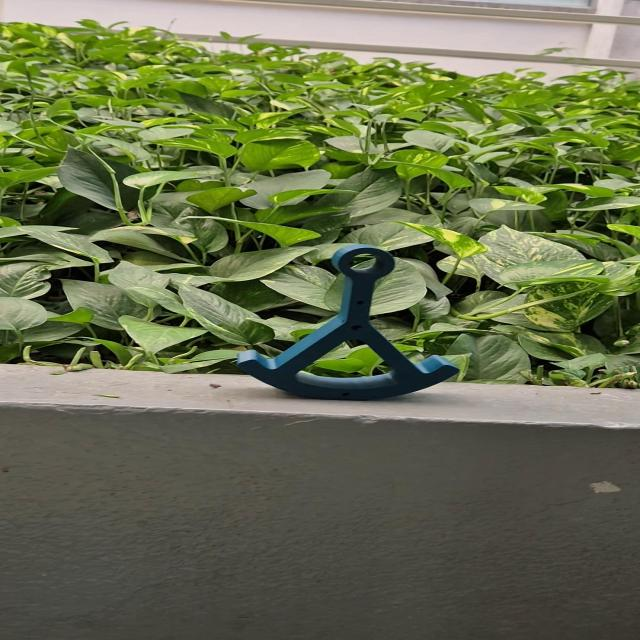haptic: (235, 243, 461, 402)
